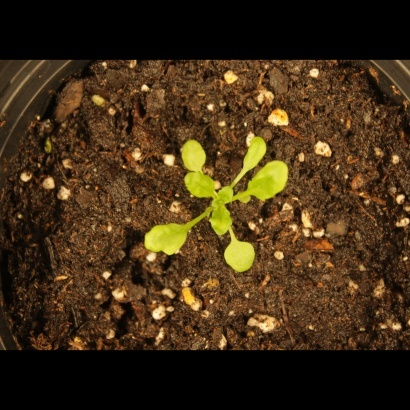leaf: (141, 221, 197, 260), (247, 159, 293, 204), (219, 240, 265, 276), (239, 137, 273, 175), (176, 139, 211, 175), (179, 171, 218, 201), (209, 206, 235, 239), (234, 188, 257, 211)
